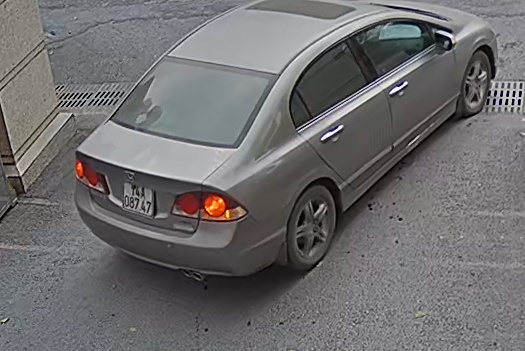vehicle plate: (116, 177, 156, 217)
